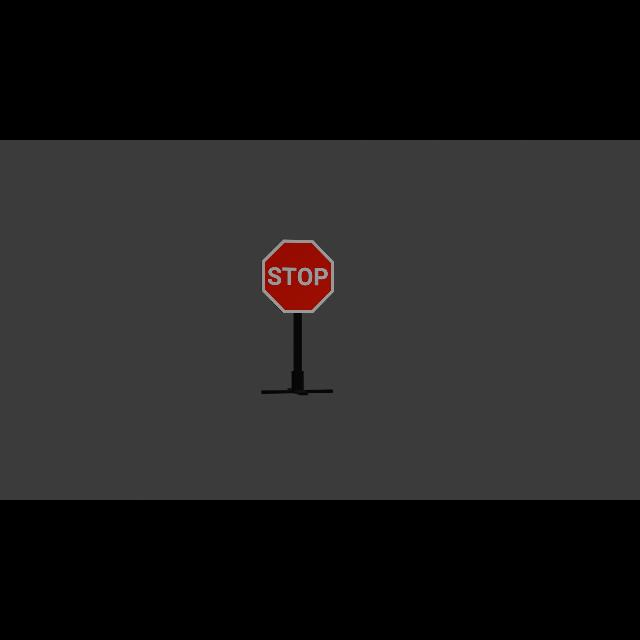sign_stop: (263, 240, 336, 315)
